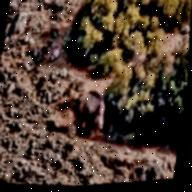boar: (70, 78, 119, 134)
